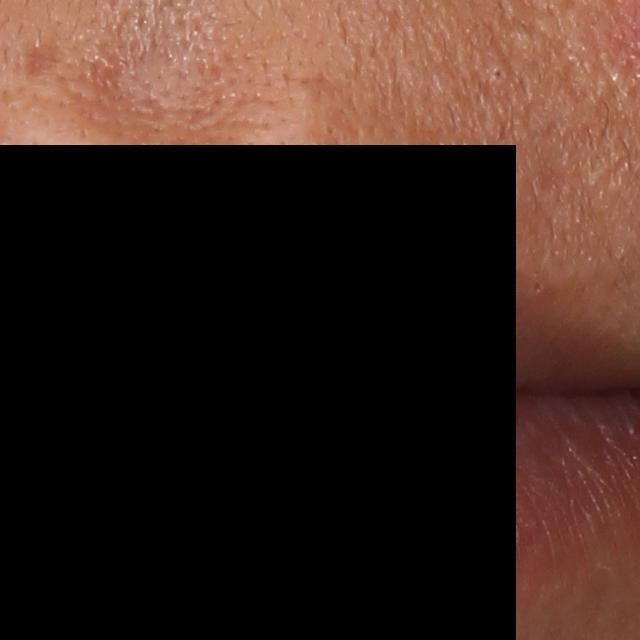atrophic_scar: (19, 40, 68, 82)
comedo: (488, 62, 510, 88), (530, 277, 546, 299)
